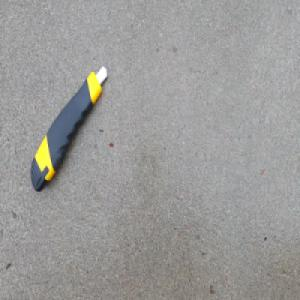Cutter: (29, 64, 107, 192)
